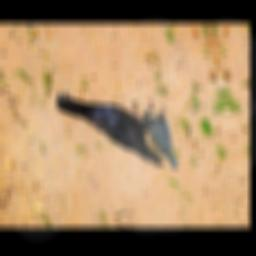Crow: (52, 86, 175, 172)
